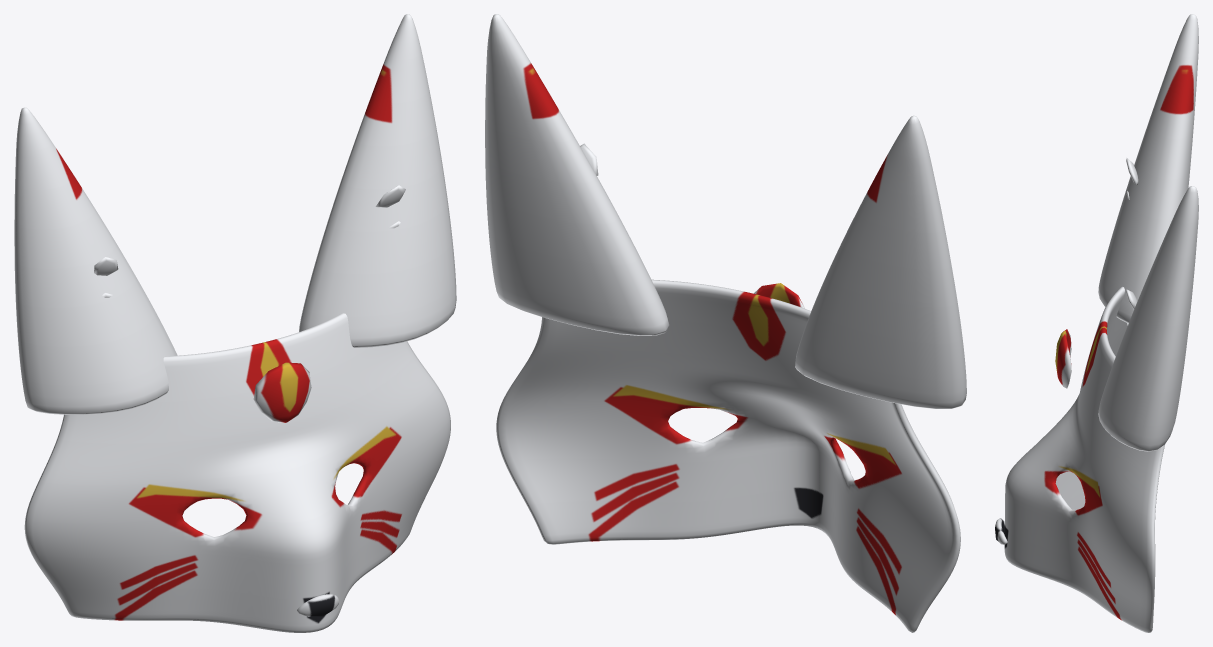
File: aurora-fox-mask.glb
3 views of the same model, side by side, from view 1: azimuth 30°, elevation 25°; view 2: azimuth 150°, elevation 25°; view 3: azimuth 270°, elevation 25° (orthographic). The views are drawn at different scales.
Visible parts, largest first — view 1: AuroraFoxMask; view 2: AuroraFoxMask; view 3: AuroraFoxMask.
Part boxes in pixels (left/top/right/bottom): AuroraFoxMask: left=14, top=14, right=456, bottom=632; AuroraFoxMask: left=485, top=14, right=966, bottom=632; AuroraFoxMask: left=995, top=14, right=1198, bottom=632.
Size of the model in its own units: 0.2071 by 0.2289 by 0.0922.
1 material, 1 textured.
